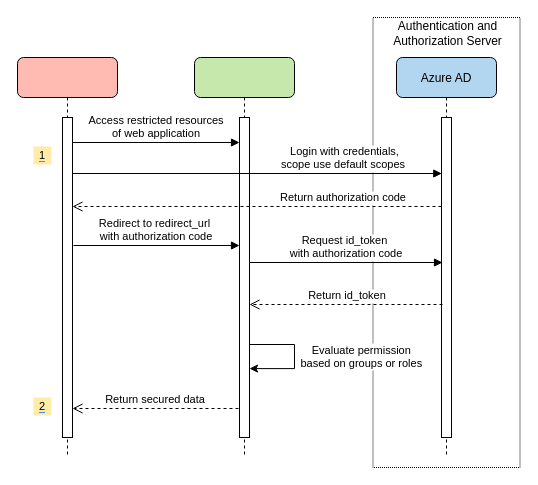
This 538x485 diagram has some shape labels left out. The shapes that lost their labels are listed below. From the top down, each one's box as (x1, y1, x2, y2) in pixels, then its label:
(16, 56, 118, 458): Browser
(194, 56, 294, 458): Web application
